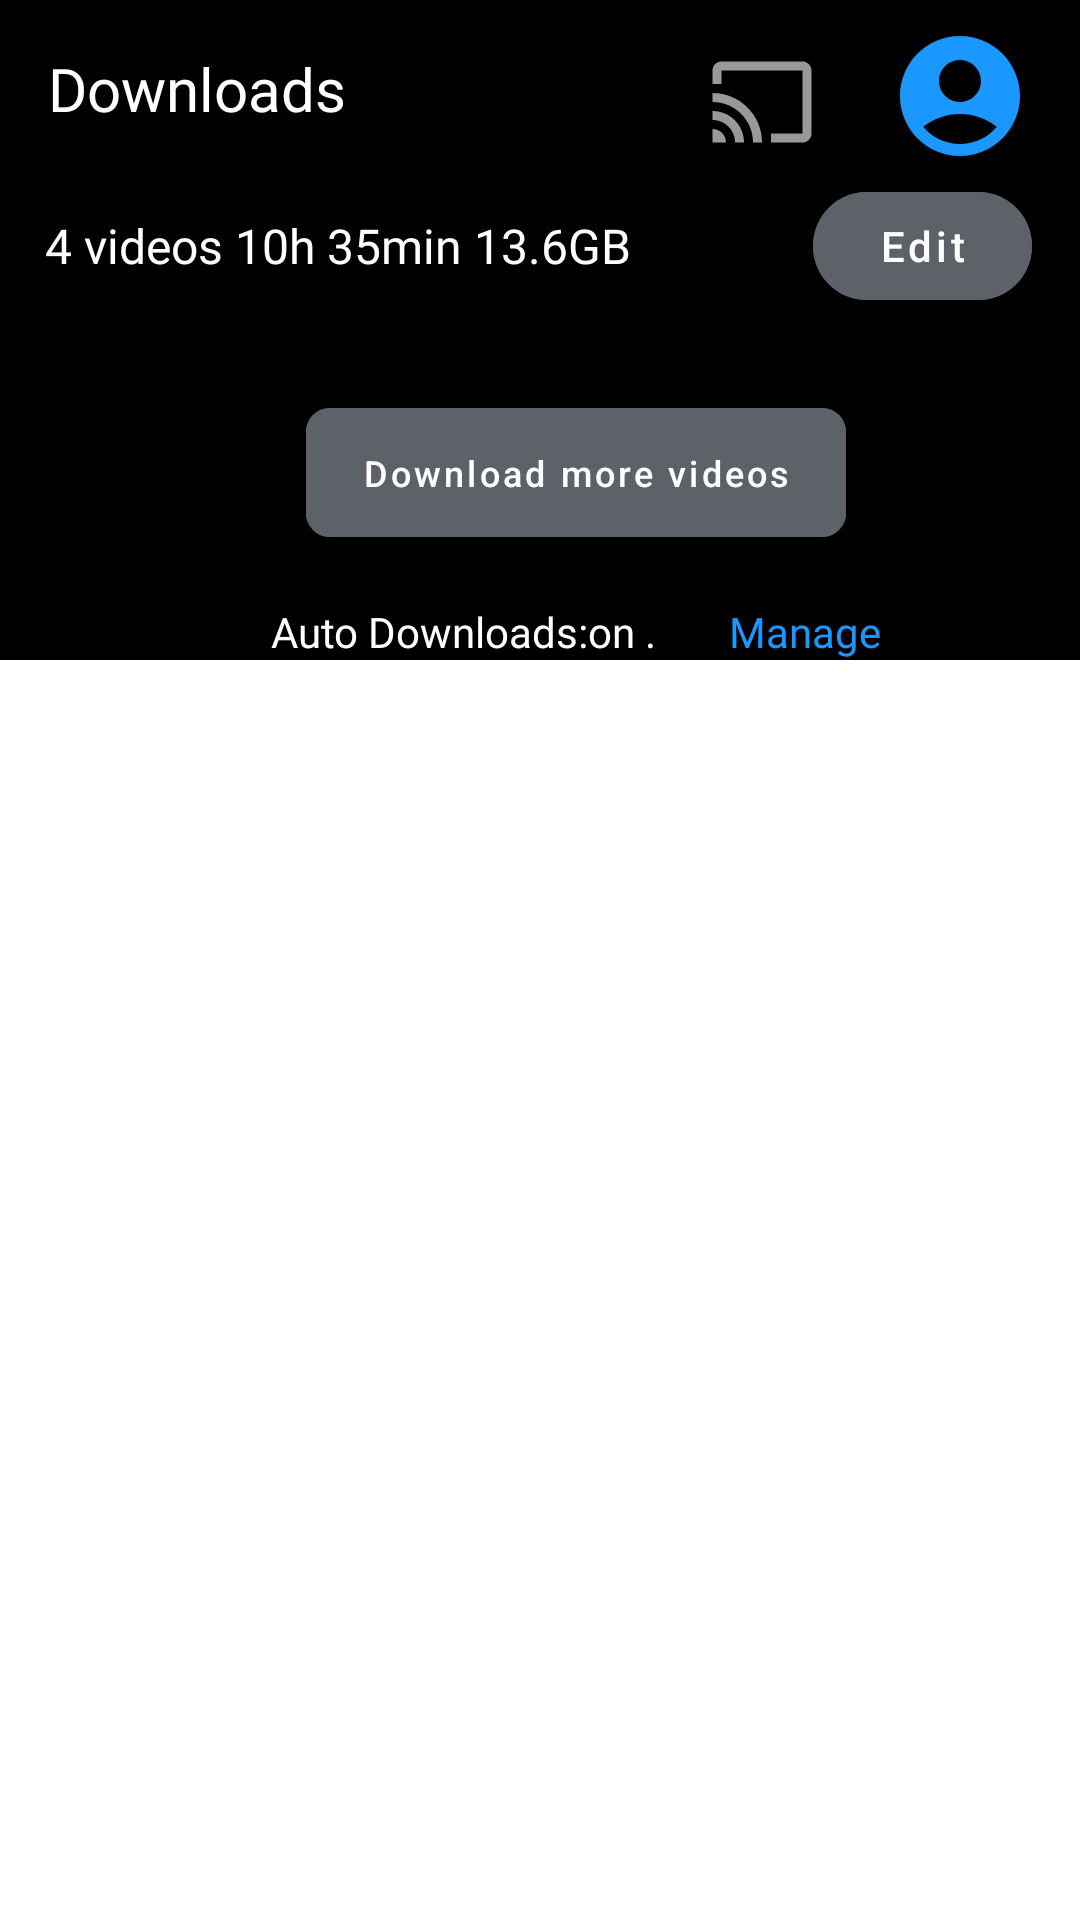

Locate icon controls on the screen. Image size 1080 × 1920, boxes as (x1, y1, x2, y2).
account circle: (900, 36, 1020, 156)
cast: (712, 61, 812, 143)
